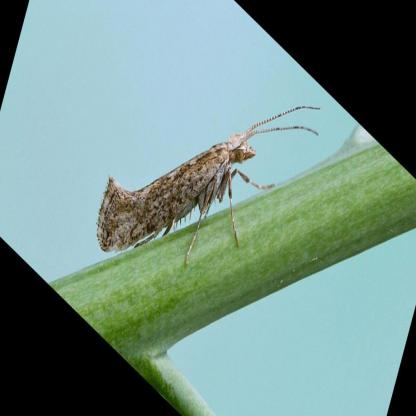plutella: (95, 101, 327, 273)
